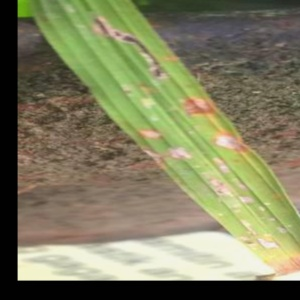Brown_Spot: (90, 9, 171, 78), (209, 125, 252, 157), (154, 139, 197, 168), (184, 89, 218, 122), (141, 118, 170, 149)
